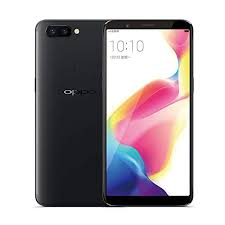oppo: (105, 16, 196, 210), (32, 16, 107, 208)
